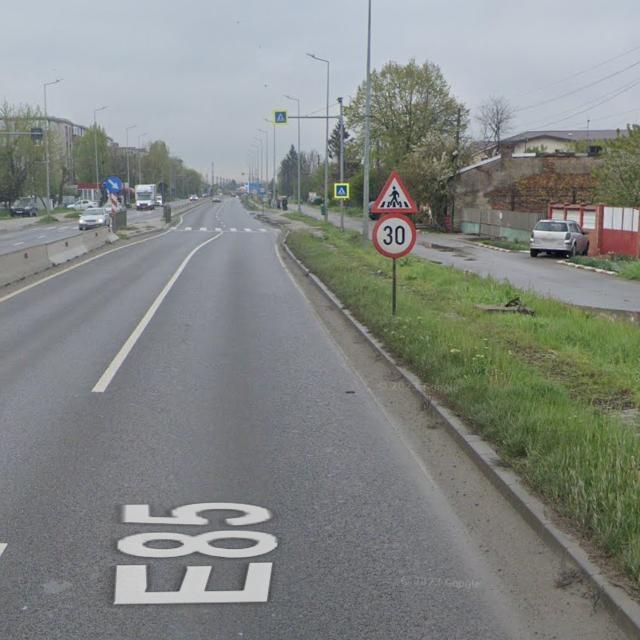forb_speed_over_30: (373, 215, 420, 260)
info_crosswalk: (334, 181, 354, 200), (275, 111, 284, 125)
warn_crosswalk: (372, 174, 419, 215)
